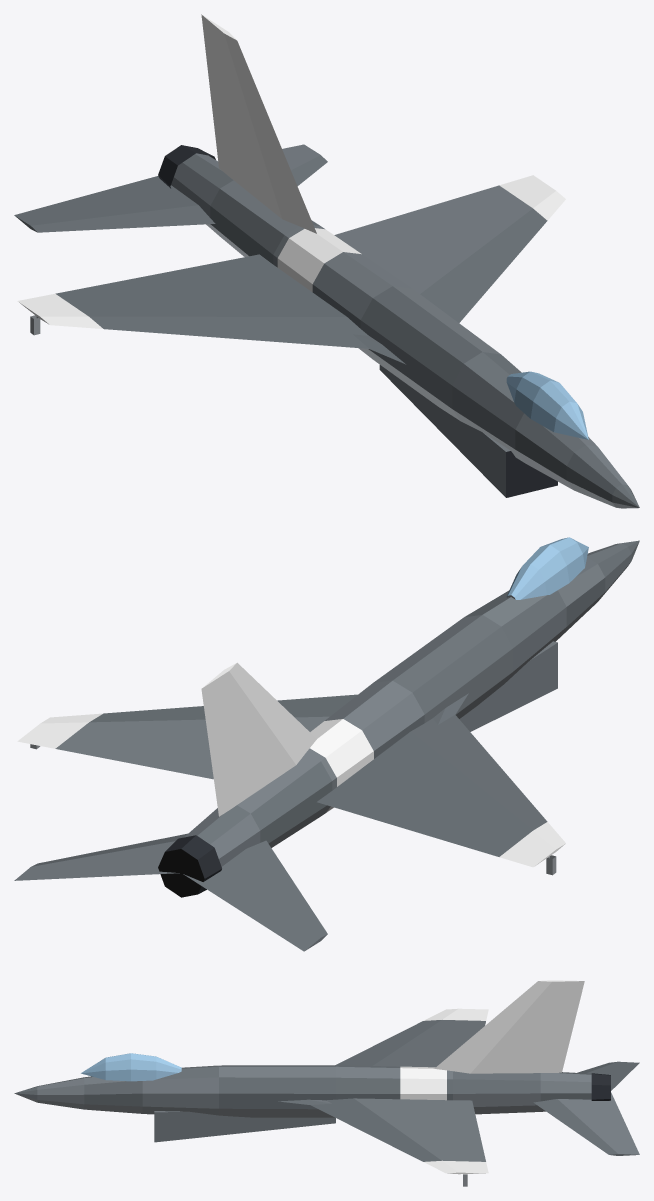
3 views of the same model, one above another, from view 1: azimuth 30°, elevation 25°; view 2: azimuth 150°, elevation 25°; view 3: azimuth 270°, elevation 25° (orthographic). The views are drawn at different scales.
Parts seen in each view (by area): view 1: body; view 2: body; view 3: body.
Boxes of the visible parts, x1,y1,x2,y2 form: body: (14,14,639,508); body: (14,537,639,951); body: (14,980,639,1186).
Size of the model in its own units: 10.08 by 4.34 by 16.08.
